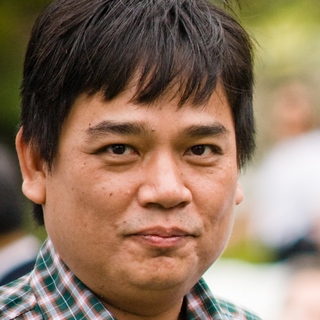eye: (92, 139, 142, 164), (179, 139, 225, 165)
